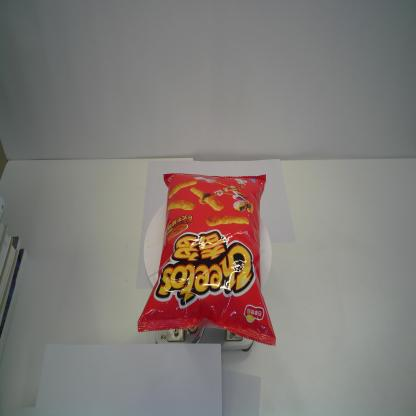Puffed Food: (136, 172, 276, 346)
